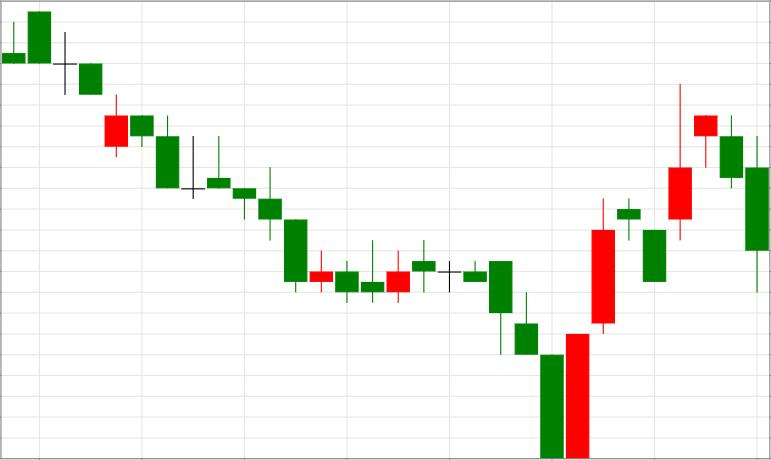bullish_engulfing_rise: (413, 241, 589, 459)
evening_star_fall: (540, 198, 666, 459)
